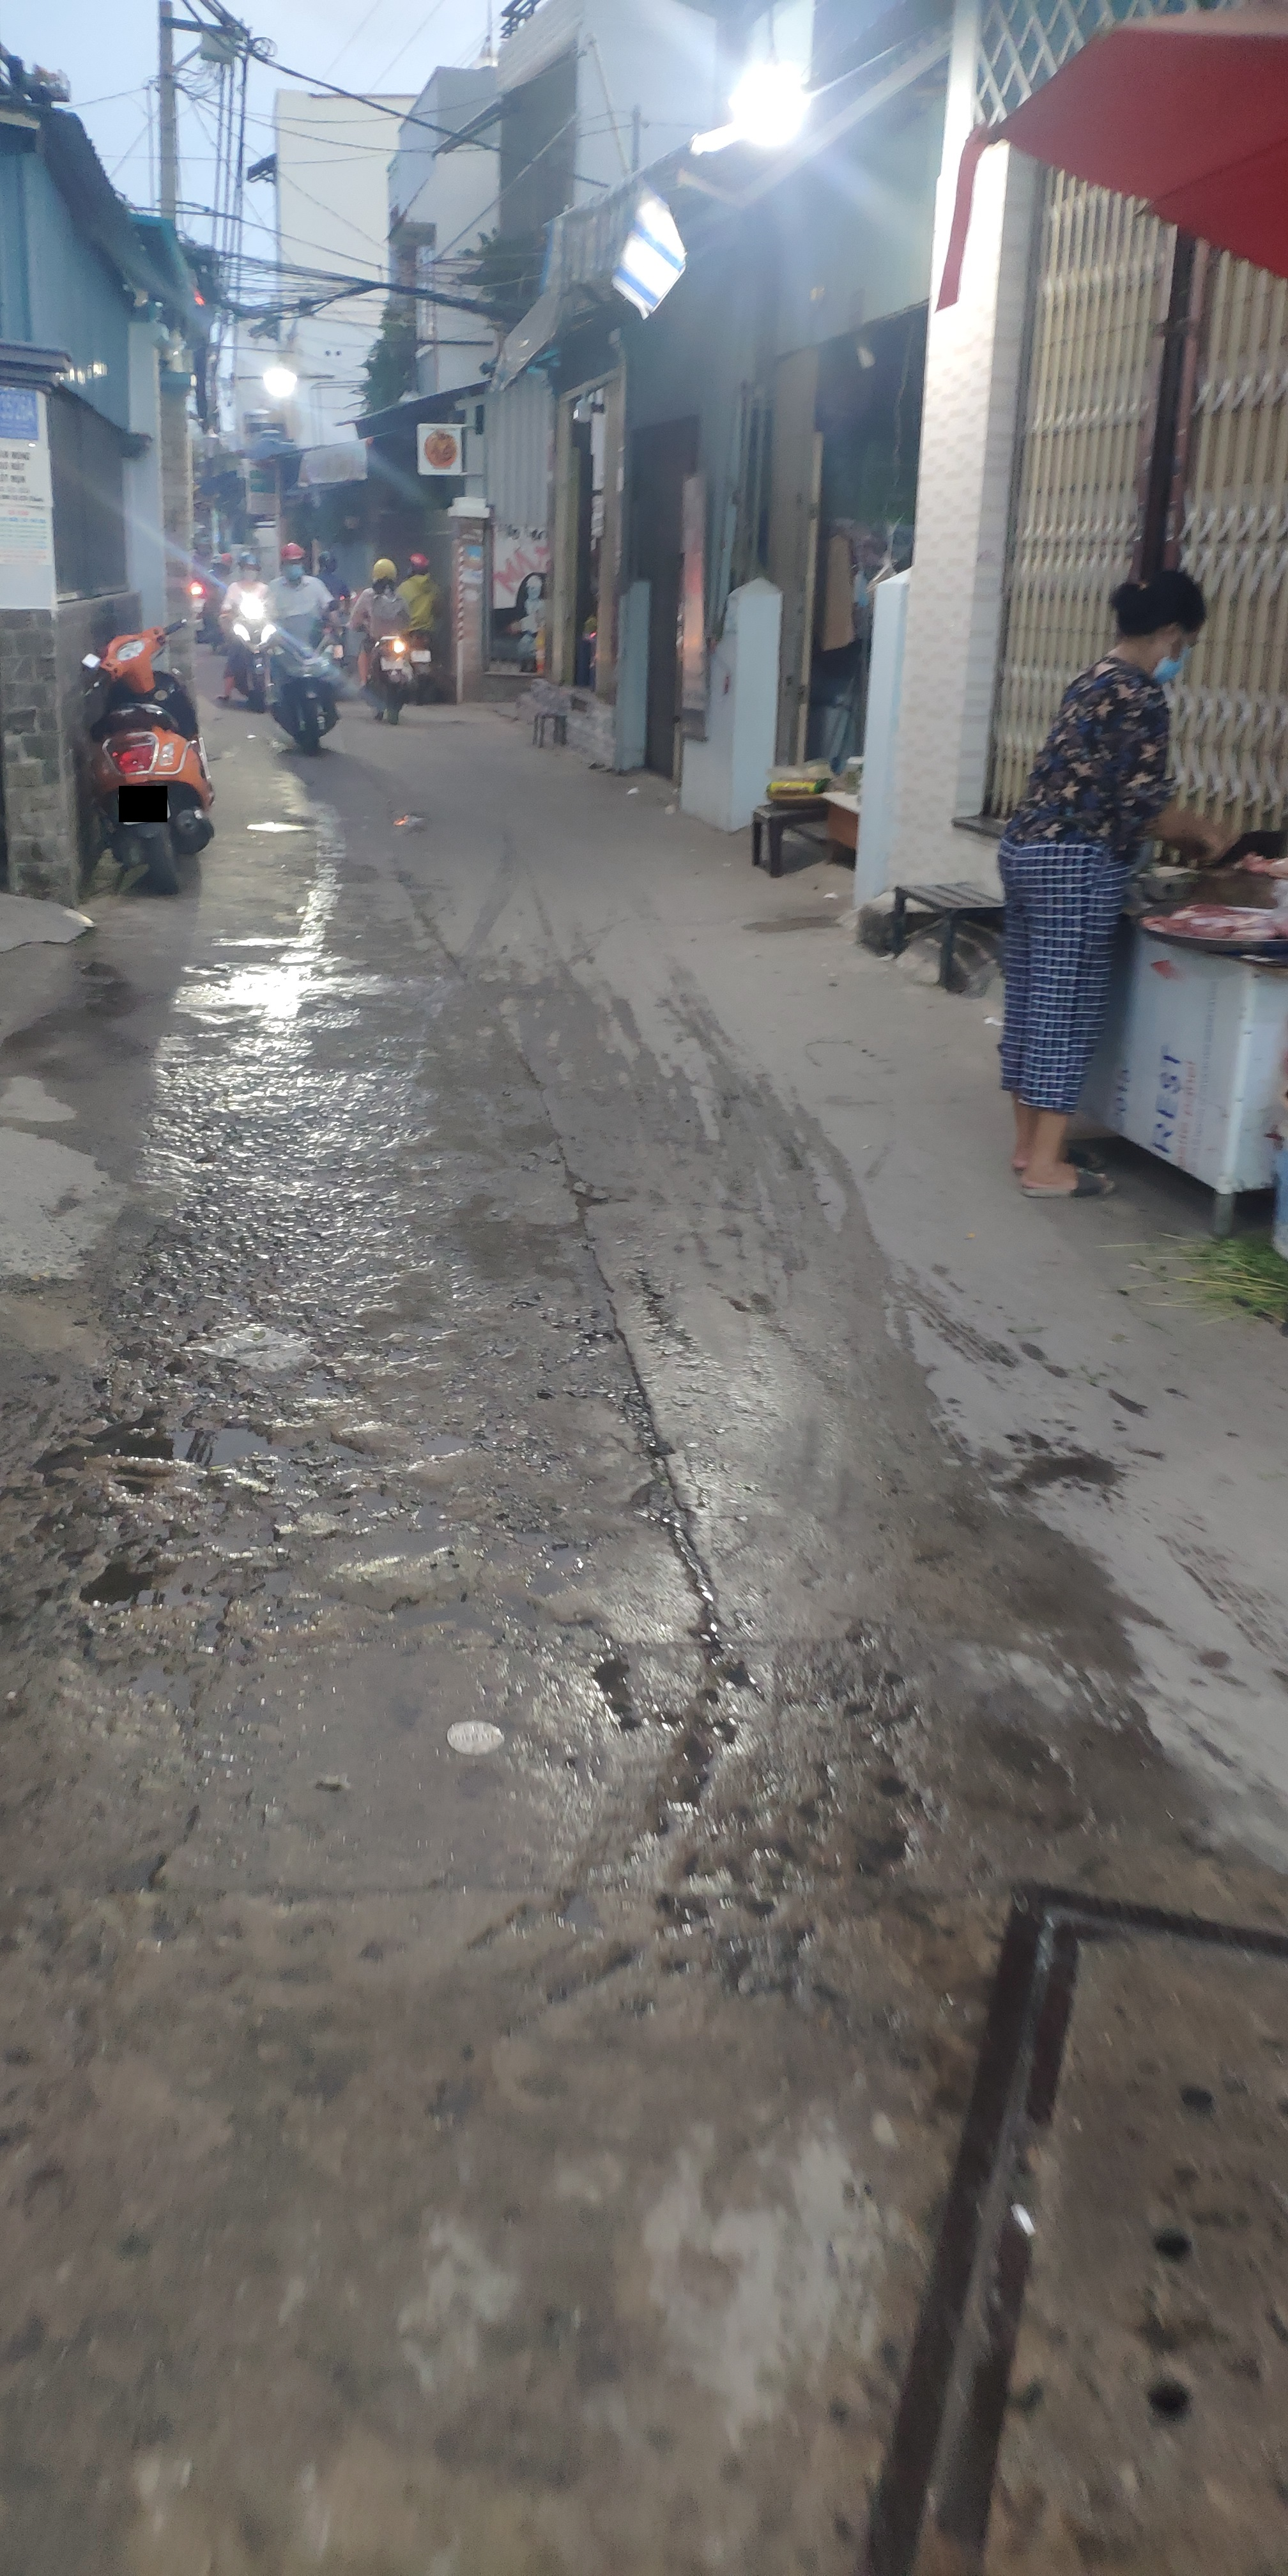hole: (613, 1638, 996, 1996), (13, 1375, 333, 1631)
